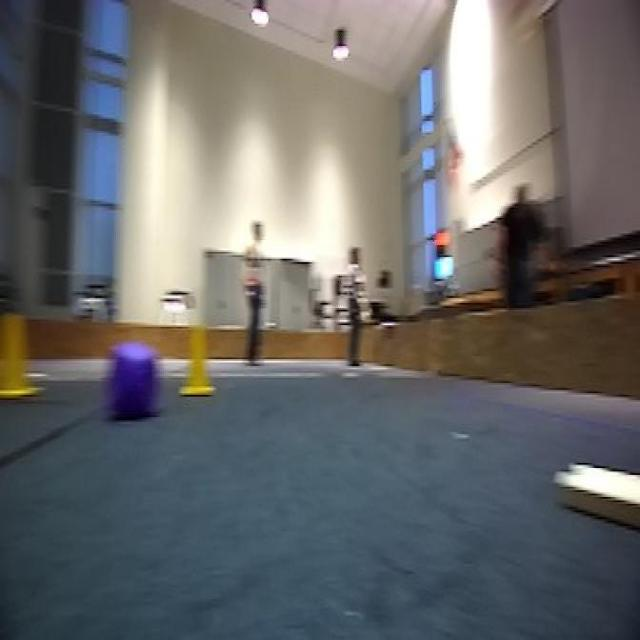frc_cone: (0, 312, 42, 398), (178, 320, 216, 400)
frc_cube: (112, 349, 154, 412)
